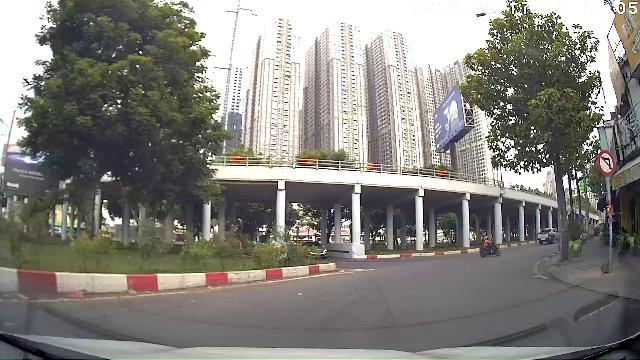123a-cam-re-trai: (596, 150, 616, 176)
